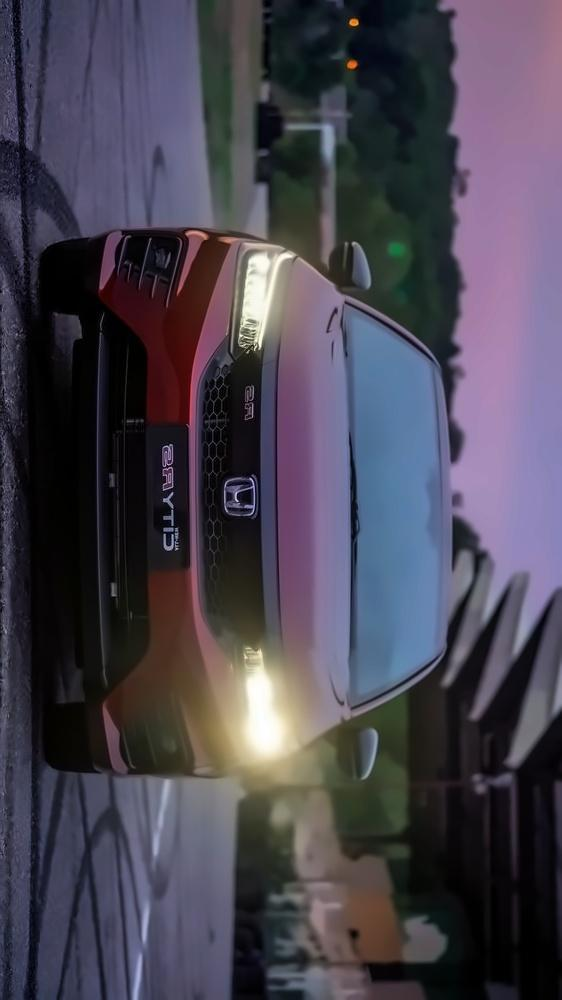Car hood: (272, 244, 360, 752)
Front bumper: (64, 219, 230, 788)
Headlight - -L-: (222, 636, 299, 775)
Headlight - -R-: (224, 234, 298, 364)
Side mirror - -L-: (324, 714, 387, 791)
Side mirror - -R-: (314, 233, 381, 316)
